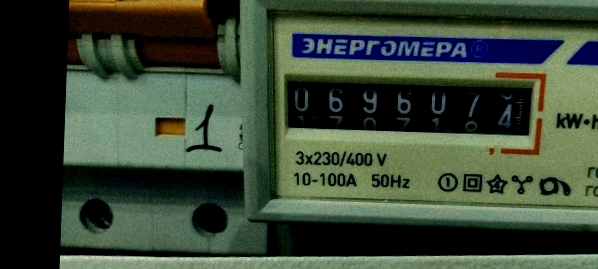0: (291, 82, 311, 112), (427, 86, 447, 114)
4: (494, 101, 513, 129)
6: (394, 85, 413, 114), (325, 85, 344, 112)
7: (462, 88, 482, 118)
9: (359, 86, 378, 115)
screen: (269, 59, 551, 156)
